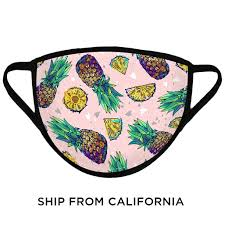cloth_mask: (2, 44, 223, 180)
